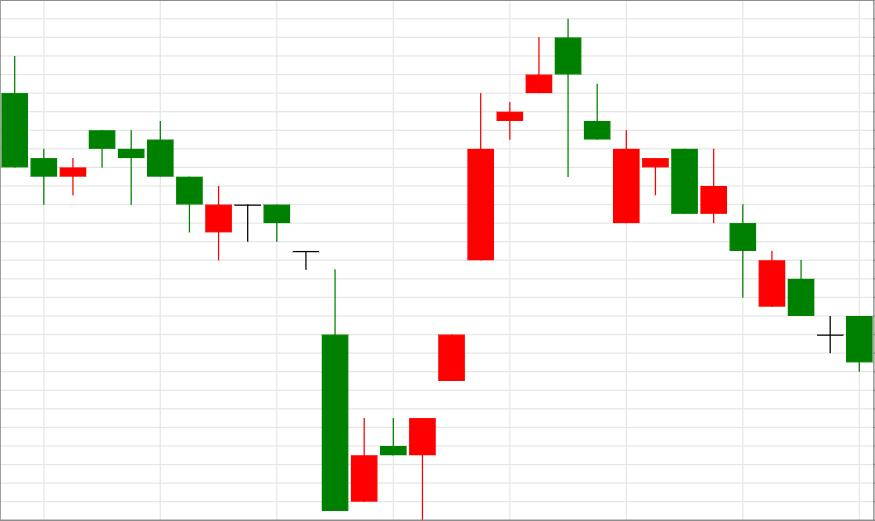hanging_man_fall: (352, 19, 582, 519)
